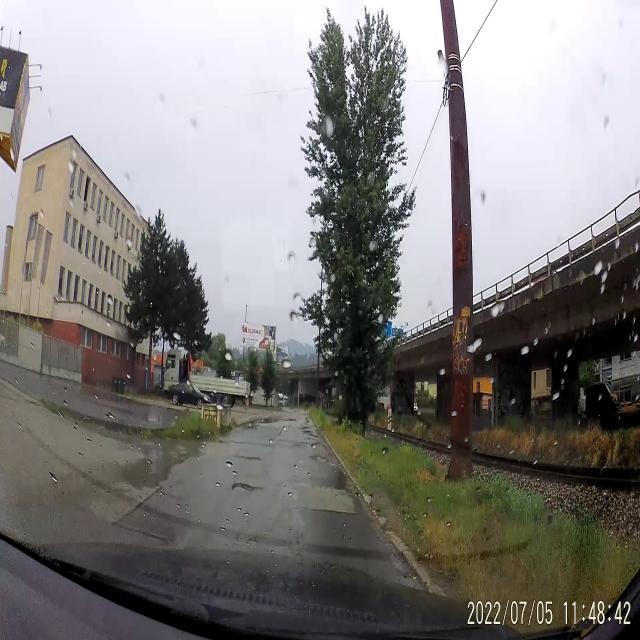Pothole: (230, 478, 265, 501), (232, 452, 266, 465)
